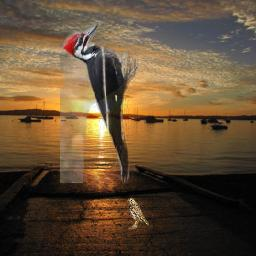Sparrow: (127, 197, 149, 229)
Woodpecker: (60, 23, 138, 183)
